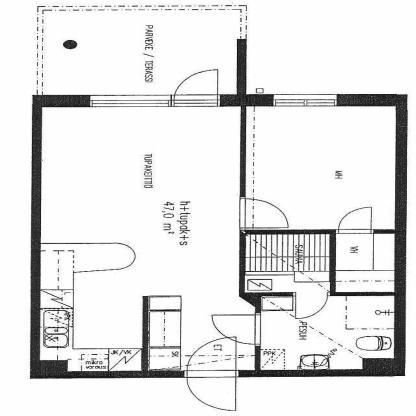bathroom: (259, 295, 401, 378)
door: (173, 335, 252, 412), (172, 334, 247, 376), (181, 373, 246, 413), (193, 312, 257, 348), (168, 67, 224, 108), (235, 196, 293, 235), (291, 289, 336, 323), (333, 204, 382, 235)
perimeter: (28, 95, 412, 379)
window: (87, 92, 175, 111), (269, 91, 340, 110)
